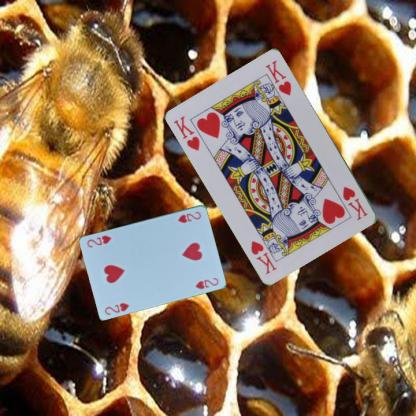2h: (102, 300, 131, 316), (175, 209, 202, 224)
Kh: (171, 112, 202, 152), (340, 184, 369, 222)
